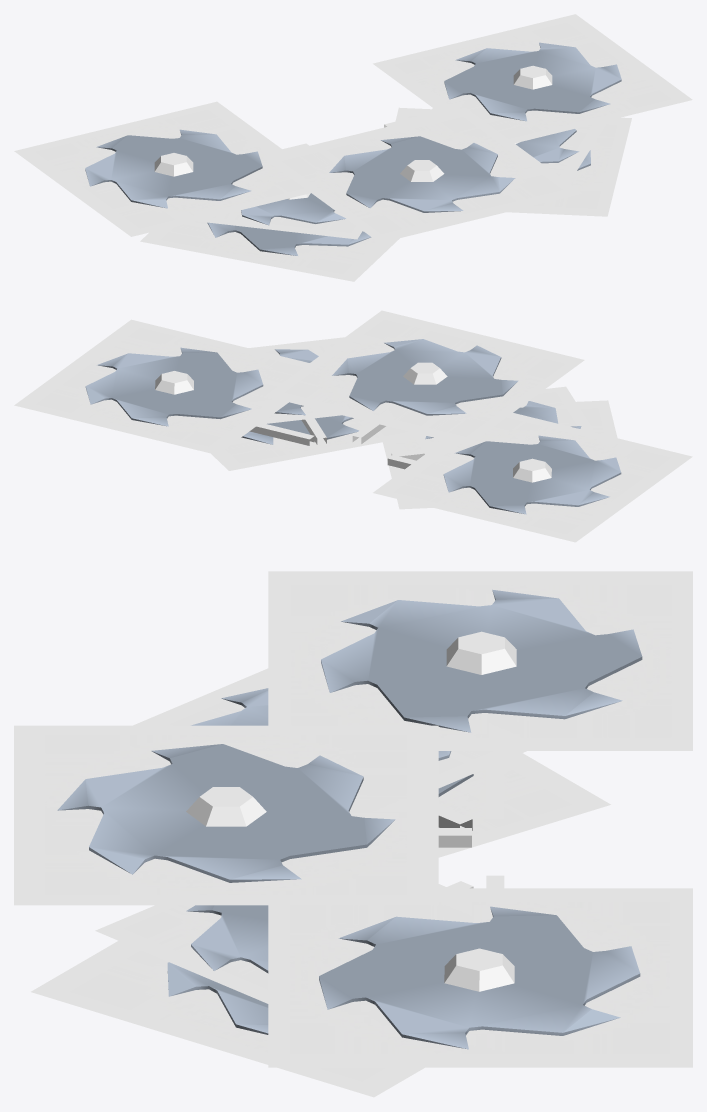
The model's file is saw 12.FBX.
3 renders of one model, top to bottom at view 1: azimuth 30°, elevation 25°; view 2: azimuth 150°, elevation 25°; view 3: azimuth 270°, elevation 25°, orthographic. The views are drawn at different scales.
Visible parts, largest first — view 1: Saw_Wind_FX, Saw_Wind_FX_3, Saw_Wind_FX_4, Saw_6_9, Saw_6_7, Saw_6_1, Saw_Wind_FX_5, Saw_Wind_FX_6, Saw_6_11, Saw_Wind_FX_1, Saw_6_3, Saw_Wind_FX_2 (+4 smaller); view 2: Saw_Wind_FX, Saw_Wind_FX_3, Saw_Wind_FX_4, Saw_6_1, Saw_6_9, Saw_6_7, Saw_Wind_FX_6, Saw_Wind_FX_5, Saw_Wind_FX_1, Saw_Wind_FX_2, Saw_6_13, Saw_6_cell (+7 smaller); view 3: Saw_Wind_FX, Saw_Wind_FX_4, Saw_Wind_FX_3, Saw_6_1, Saw_6_9, Saw_6_7, Saw_Wind_FX_6, Saw_Wind_FX_5, Saw_Wind_FX_2, Saw_Wind_FX_1, Saw_6_5, Saw_6_13 (+5 smaller).
Boxes of the visible parts, x1=… form: Saw_Wind_FX: x1=263, y1=107, x2=582, y2=242; Saw_Wind_FX_3: x1=14, y1=101, x2=310, y2=236; Saw_Wind_FX_4: x1=373, y1=14, x2=692, y2=143; Saw_6_9: x1=444, y1=42, x2=621, y2=121; Saw_6_7: x1=85, y1=129, x2=262, y2=208; Saw_6_1: x1=329, y1=136, x2=515, y2=212; Saw_Wind_FX_5: x1=140, y1=221, x2=399, y2=281; Saw_Wind_FX_6: x1=395, y1=107, x2=631, y2=216; Saw_6_11: x1=207, y1=222, x2=371, y2=255; Saw_Wind_FX_1: x1=196, y1=210, x2=362, y2=239; Saw_6_3: x1=241, y1=193, x2=345, y2=225; Saw_Wind_FX_2: x1=427, y1=108, x2=608, y2=182; Saw_Wind_FX: x1=265, y1=310, x2=584, y2=445; Saw_Wind_FX_3: x1=373, y1=413, x2=692, y2=542; Saw_Wind_FX_4: x1=14, y1=319, x2=309, y2=454; Saw_6_1: x1=332, y1=339, x2=518, y2=415; Saw_6_9: x1=85, y1=347, x2=263, y2=426; Saw_6_7: x1=443, y1=435, x2=621, y2=514; Saw_Wind_FX_6: x1=211, y1=418, x2=413, y2=470; Saw_Wind_FX_5: x1=383, y1=400, x2=617, y2=509; Saw_Wind_FX_1: x1=411, y1=386, x2=594, y2=454; Saw_Wind_FX_2: x1=248, y1=337, x2=344, y2=424; Saw_6_13: x1=241, y1=415, x2=358, y2=444; Saw_6_cell: x1=403, y1=362, x2=447, y2=384; Saw_Wind_FX: x1=14, y1=725, x2=438, y2=905; Saw_Wind_FX_4: x1=268, y1=888, x2=692, y2=1067; Saw_Wind_FX_3: x1=268, y1=571, x2=692, y2=750; Saw_6_1: x1=57, y1=744, x2=395, y2=882; Saw_6_9: x1=319, y1=906, x2=640, y2=1049; Saw_6_7: x1=321, y1=589, x2=642, y2=732; Saw_Wind_FX_6: x1=31, y1=941, x2=424, y2=1097; Saw_Wind_FX_5: x1=438, y1=753, x2=610, y2=857; Saw_Wind_FX_2: x1=95, y1=884, x2=448, y2=1003; Saw_Wind_FX_1: x1=133, y1=668, x2=526, y2=788; Saw_6_5: x1=186, y1=905, x2=268, y2=973; Saw_6_13: x1=167, y1=962, x2=268, y2=1034.
Size of the model in its own units: 799 by 61.82 by 462.
